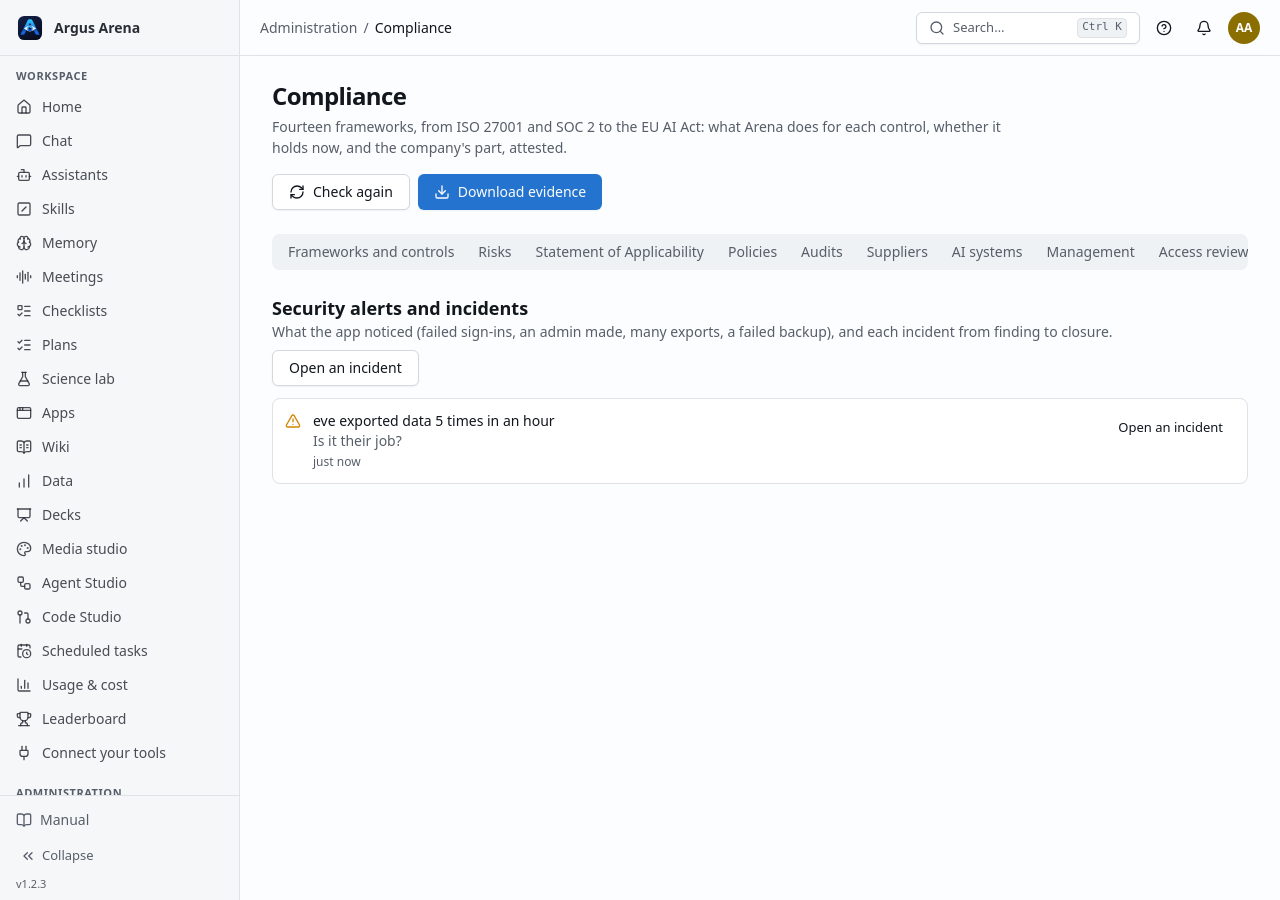
Test: incidents › opens one from an alert with what is known
Click the button "Open an incident" in the row of "eve exported data 5 times in an hour".
click(1171, 427)  # box [1106,411,1235,443]
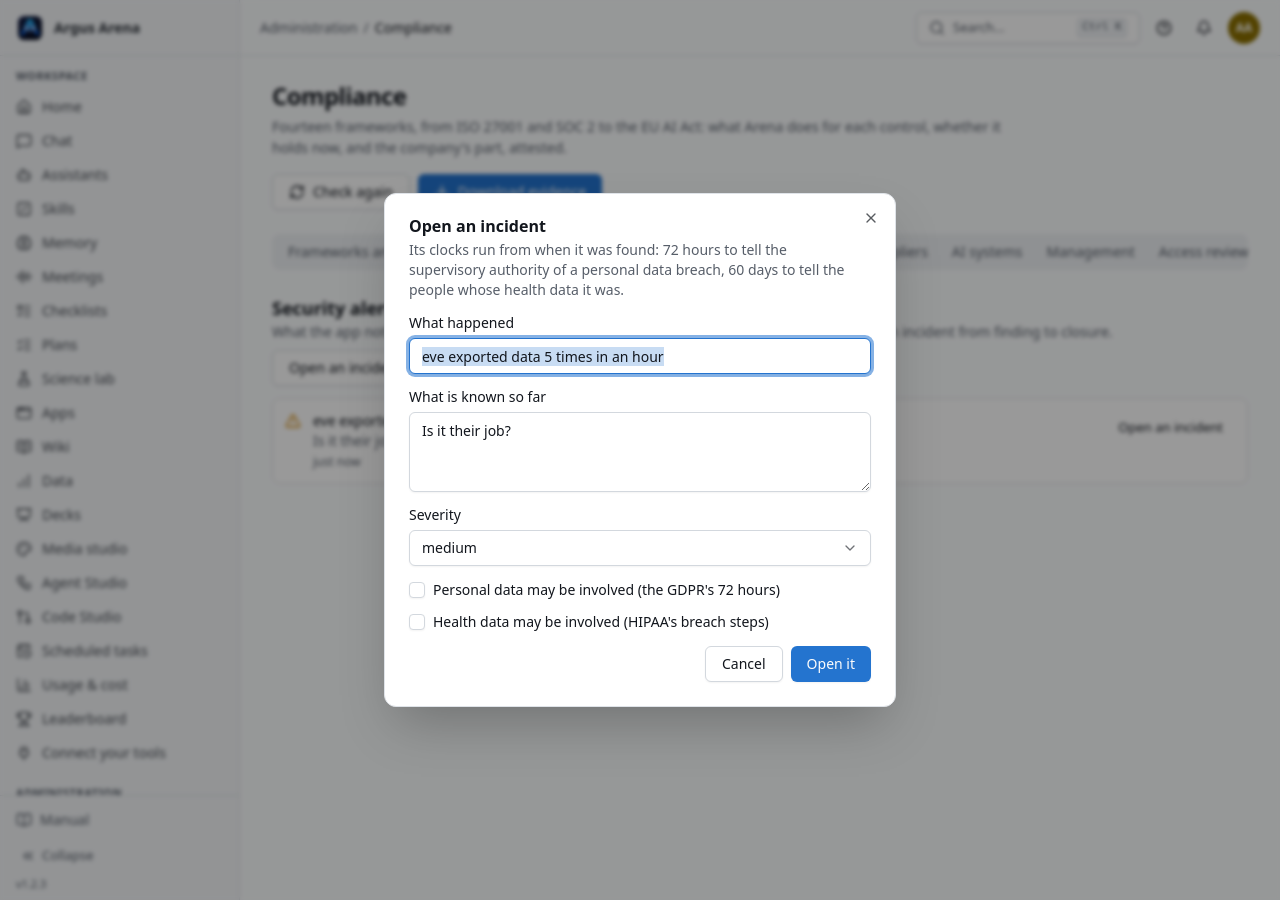
Expected: the field labelled "What happened" holds "eve exported data 5 times in an hour", [409,338,871,374]
Click the 1st checkbox named "Personal data may be involved".
click(417, 590)  # box [409,582,425,598]
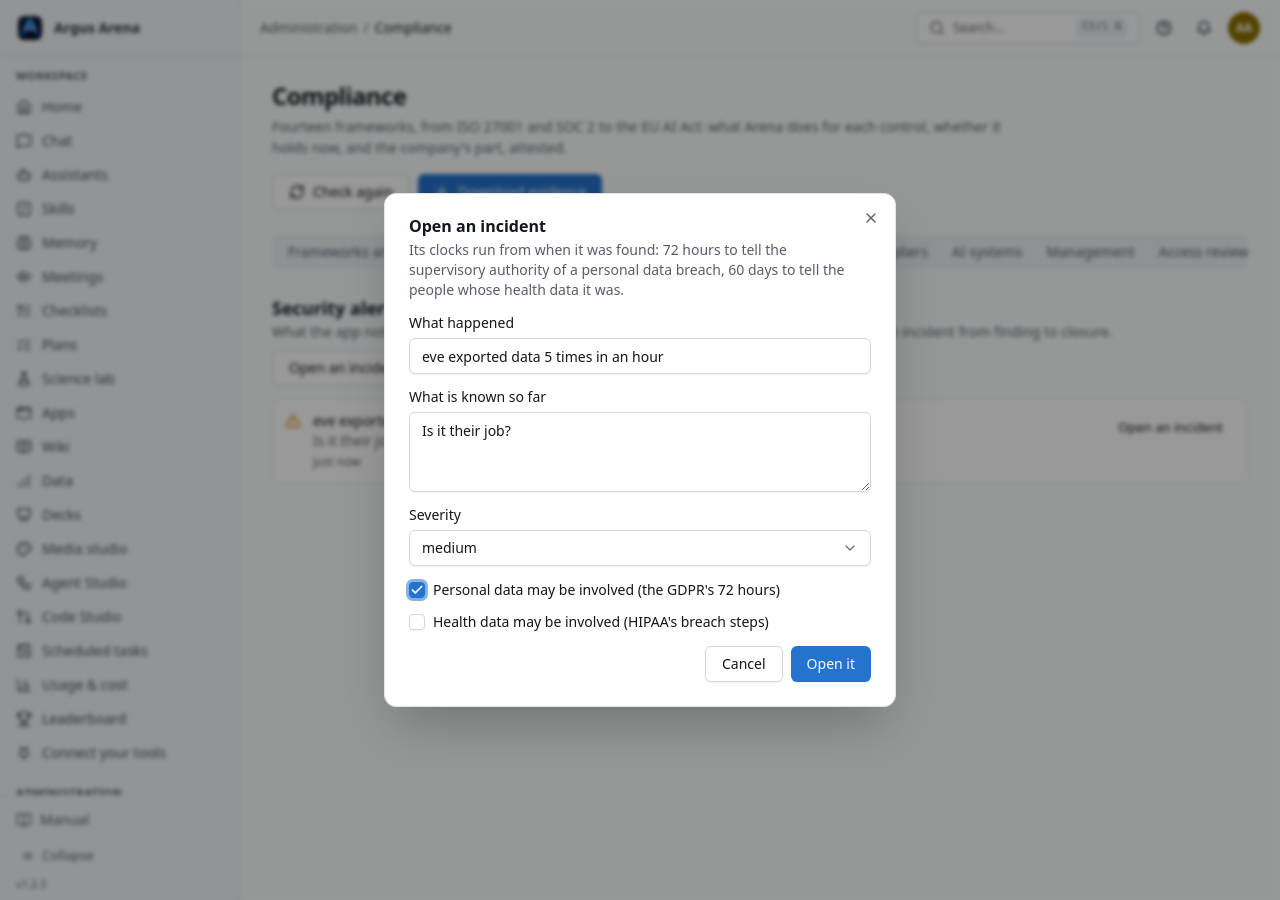
Click the button "Open it".
click(831, 664)  # box [791,646,871,682]
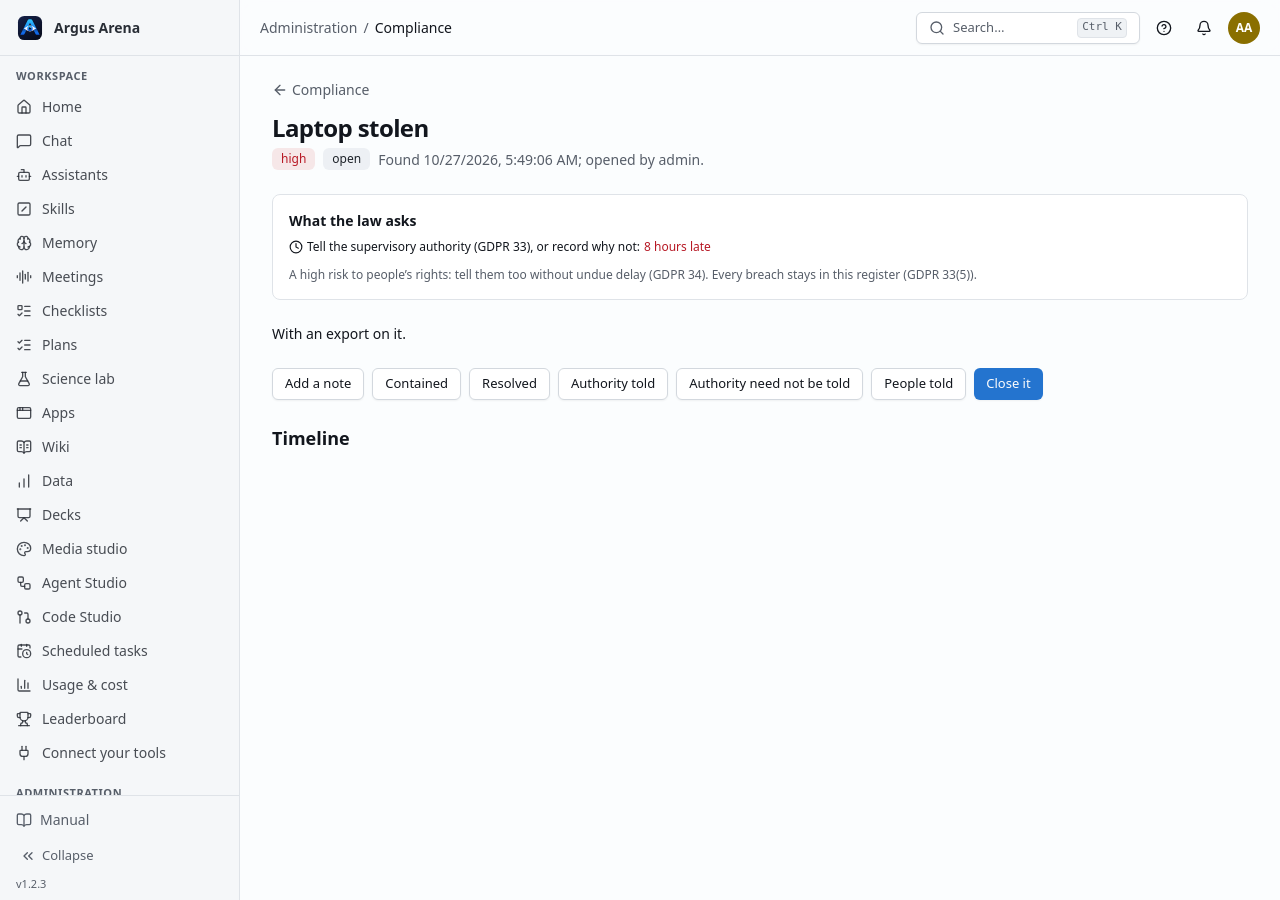
Expected: the heading "Laptop stolen" is shown, [272,111,429,144]
